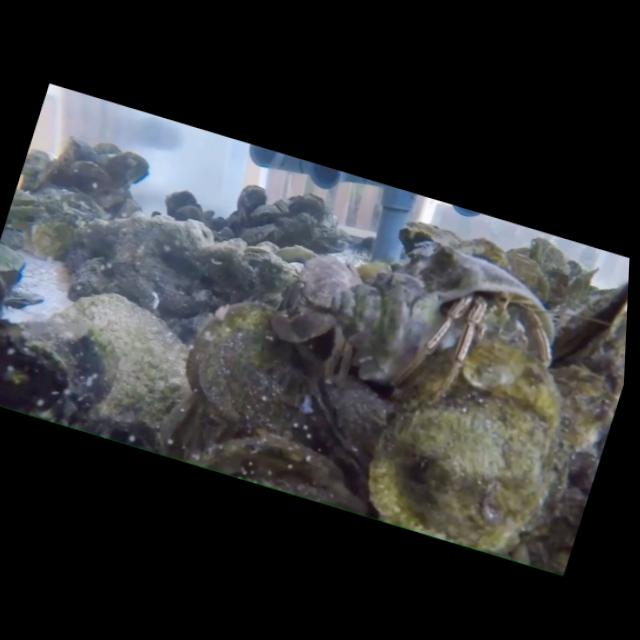Oyster-Closed: (168, 283, 332, 443), (275, 335, 406, 468), (229, 179, 269, 229), (235, 214, 280, 254), (247, 199, 284, 226), (64, 134, 100, 160), (271, 196, 292, 219)
Oyster-Indeterminate: (354, 315, 590, 568), (0, 291, 130, 435), (527, 358, 621, 461), (553, 262, 629, 379), (516, 236, 581, 304), (393, 215, 466, 267), (494, 249, 560, 306), (449, 229, 516, 275), (270, 204, 322, 258), (97, 146, 154, 192), (63, 155, 119, 196), (159, 184, 201, 225), (18, 146, 54, 191), (89, 137, 125, 166), (172, 202, 205, 230), (200, 207, 218, 226)
Oyster-Open: (287, 187, 328, 229), (310, 221, 353, 256), (8, 187, 49, 221)
